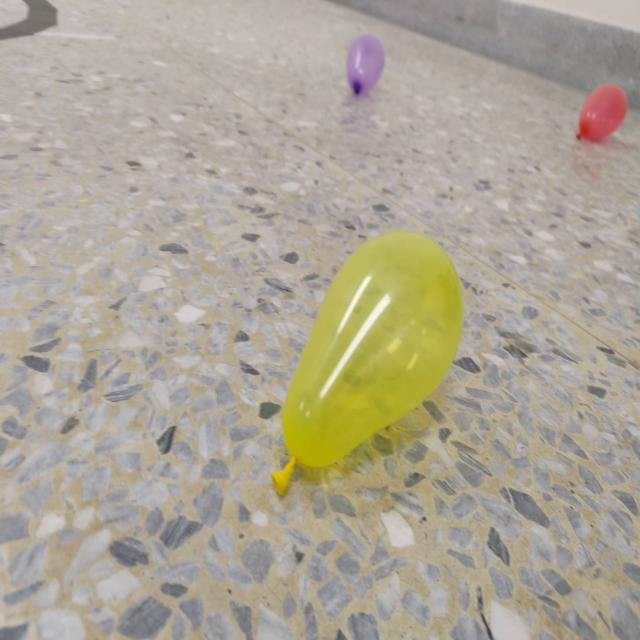other: (270, 228, 466, 496), (347, 33, 385, 96)
red: (575, 82, 628, 142)
